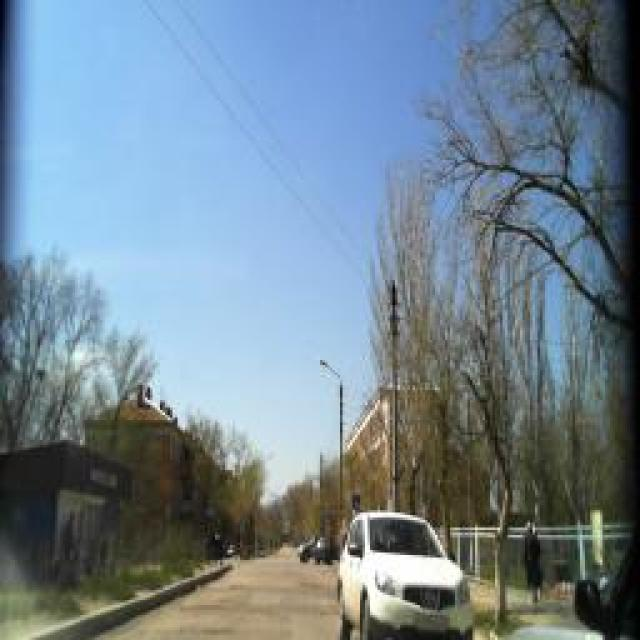sign: (350, 491, 365, 514), (204, 498, 218, 522)
